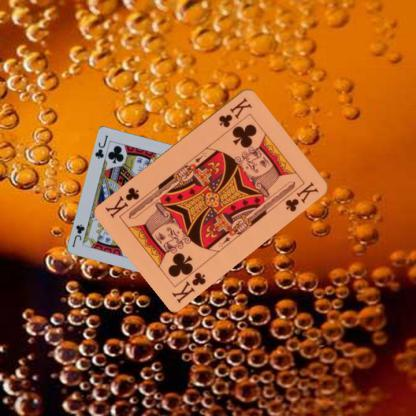Jc: (92, 133, 110, 160)
Kc: (168, 269, 208, 304), (216, 95, 254, 129)
